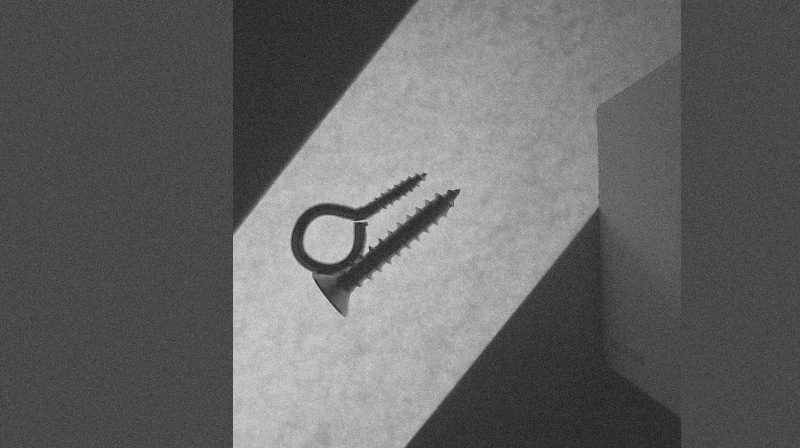O001: (289, 169, 425, 278)
S001: (311, 185, 461, 317)
